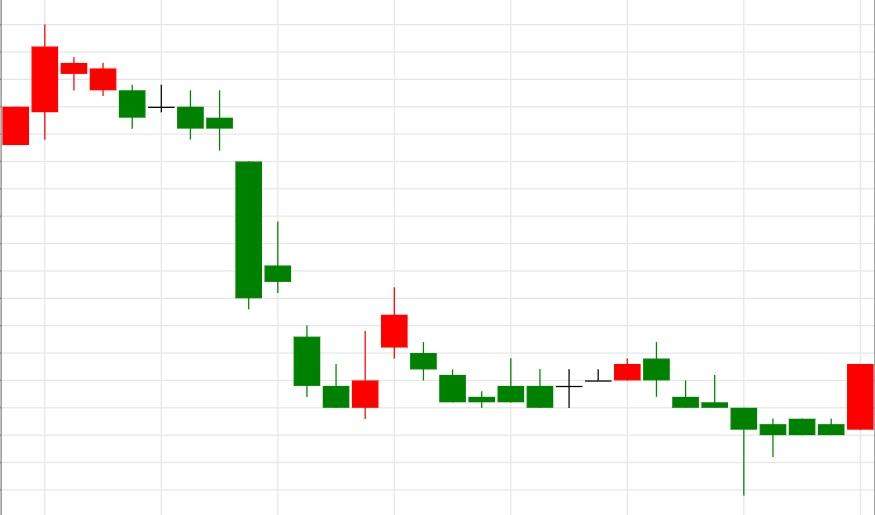inverse_hammer_rise: (31, 24, 379, 418)
